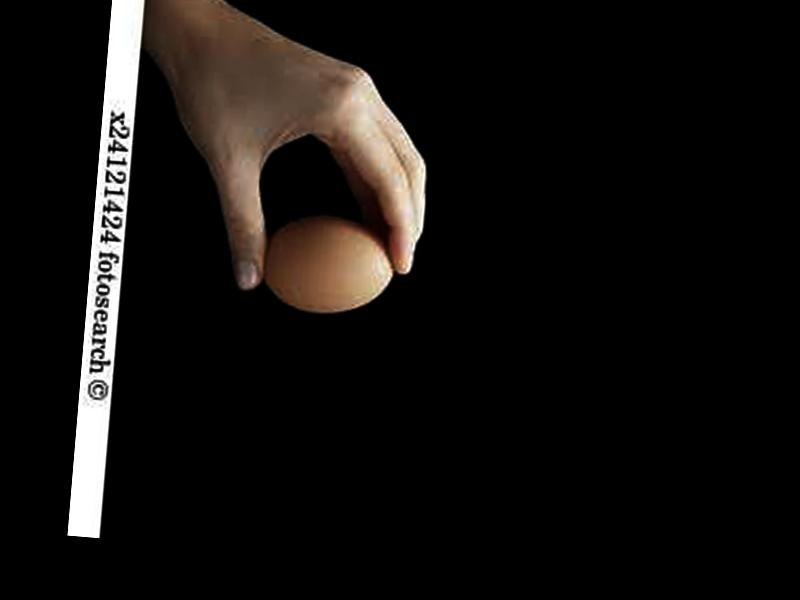Eggs: (259, 211, 401, 318)
